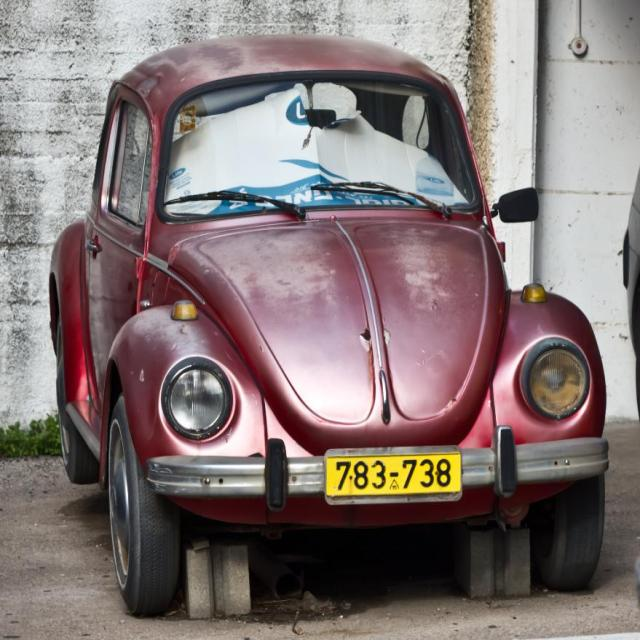car: (49, 27, 601, 616)
